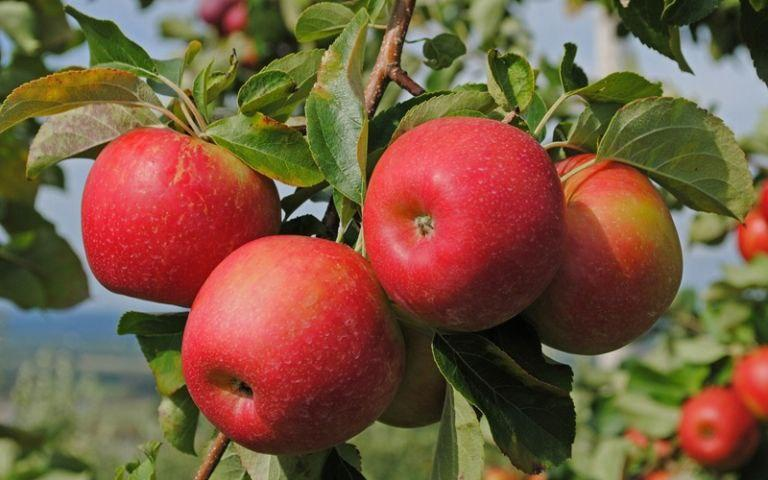Apple: (180, 235, 406, 456), (364, 120, 565, 334), (84, 129, 278, 305), (562, 155, 682, 357)
